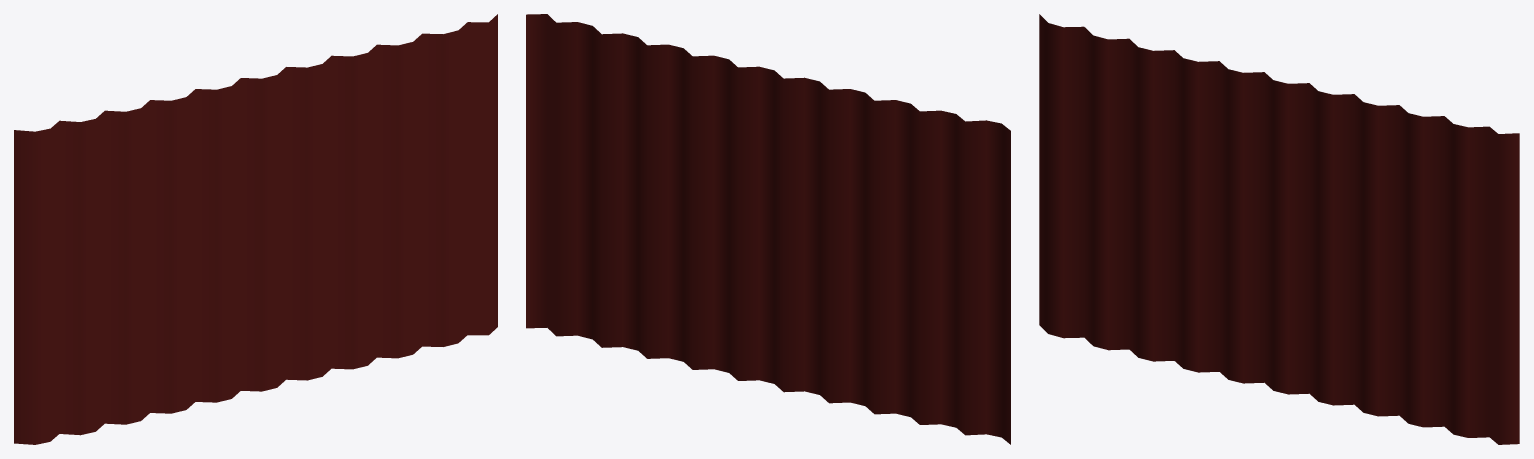
File: Perde.fbx
3 views of the same model, side by side, from view 1: azimuth 30°, elevation 25°; view 2: azimuth 150°, elevation 25°; view 3: azimuth 330°, elevation 25° (orthographic).
Visible parts, largest first — view 1: Curtain; view 2: Curtain; view 3: Curtain.
Boxes of the visible parts, <box> form: Curtain: <box>14,14,497,444</box>; Curtain: <box>526,14,1010,444</box>; Curtain: <box>1039,14,1519,444</box>.
Bounding box in the file's own units: 2217 × 1384 × 48.09.
